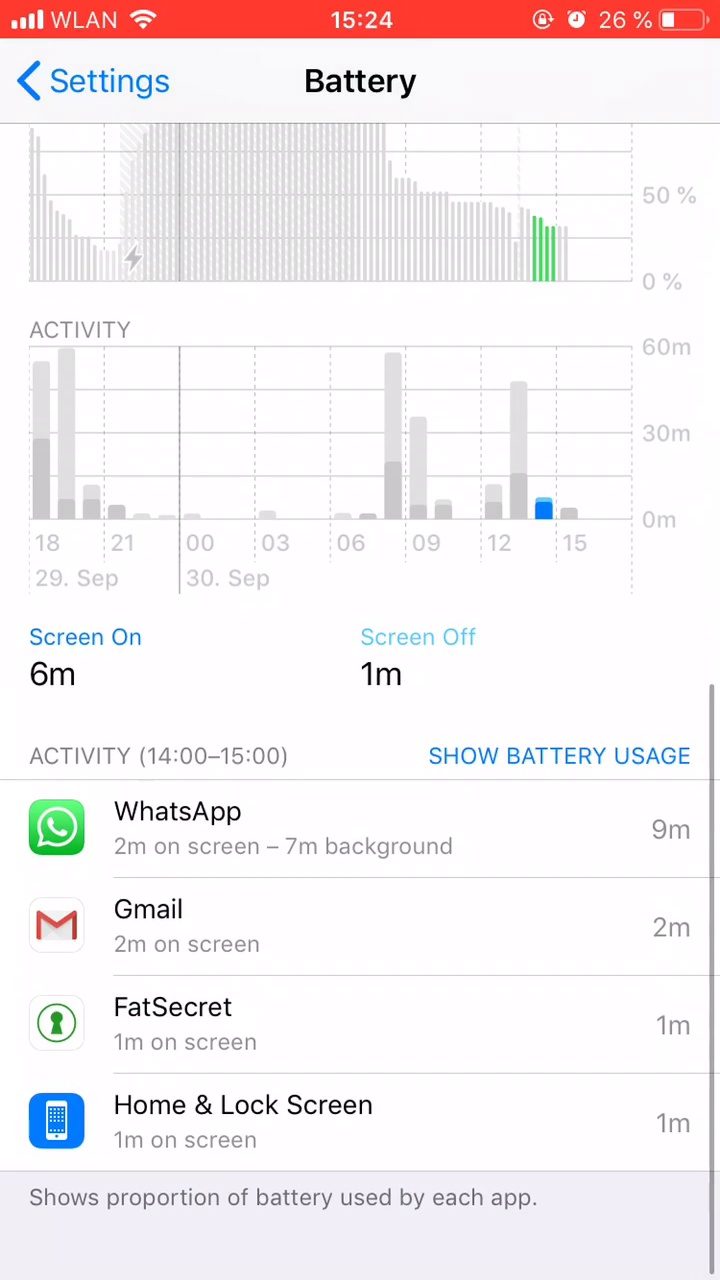activity: (17, 727, 305, 773)
app: (23, 790, 696, 866), (26, 888, 699, 964), (27, 987, 700, 1063), (21, 1083, 694, 1159)
